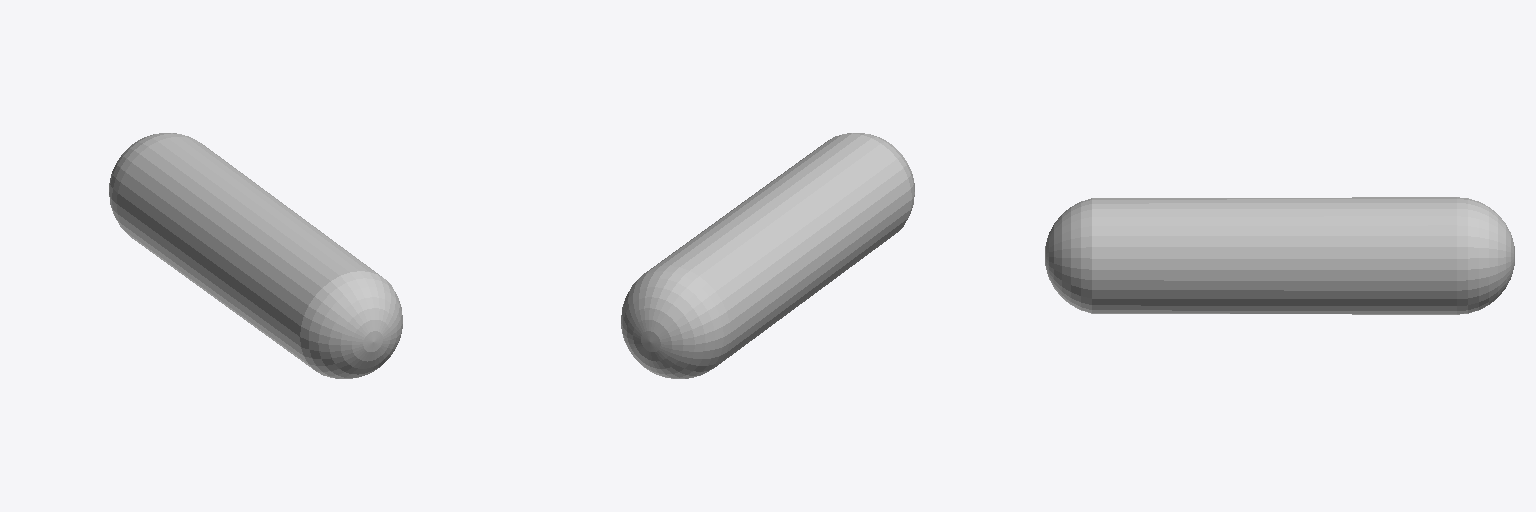
Rendered from LASER.obj.
3 renders of one model, left to right at view 1: azimuth 30°, elevation 25°; view 2: azimuth 150°, elevation 25°; view 3: azimuth 270°, elevation 25°, orthographic.
Parts seen in each view (by area): view 1: Sphere; view 2: Sphere; view 3: Sphere.
Part boxes in pixels (left/top/right/bottom): Sphere: left=109, top=133, right=402, bottom=378; Sphere: left=621, top=133, right=914, bottom=378; Sphere: left=1045, top=197, right=1514, bottom=314.
Size of the model in its own units: 0.2 by 0.2 by 0.8.